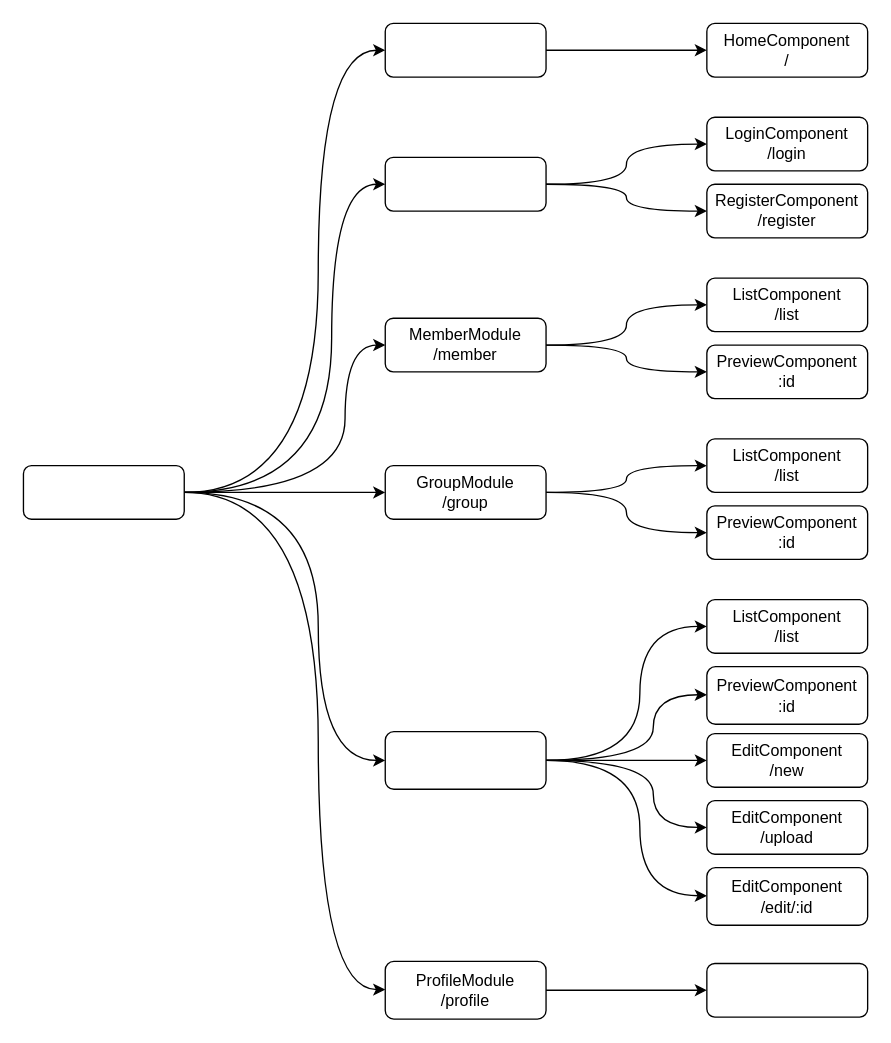
Image size: 891x1043. Some labels were removed from this diagram. Here are the shapes that lost their labels. From the top down, the box of each, then its label:
(384, 22, 546, 77): HomeModule /home
(384, 156, 546, 211): AuthModule /auth
(22, 464, 184, 519): AppRoutingModule routes
(384, 730, 546, 789): ReceiptModule /receipt
(706, 962, 868, 1017): PreviewComponent /
